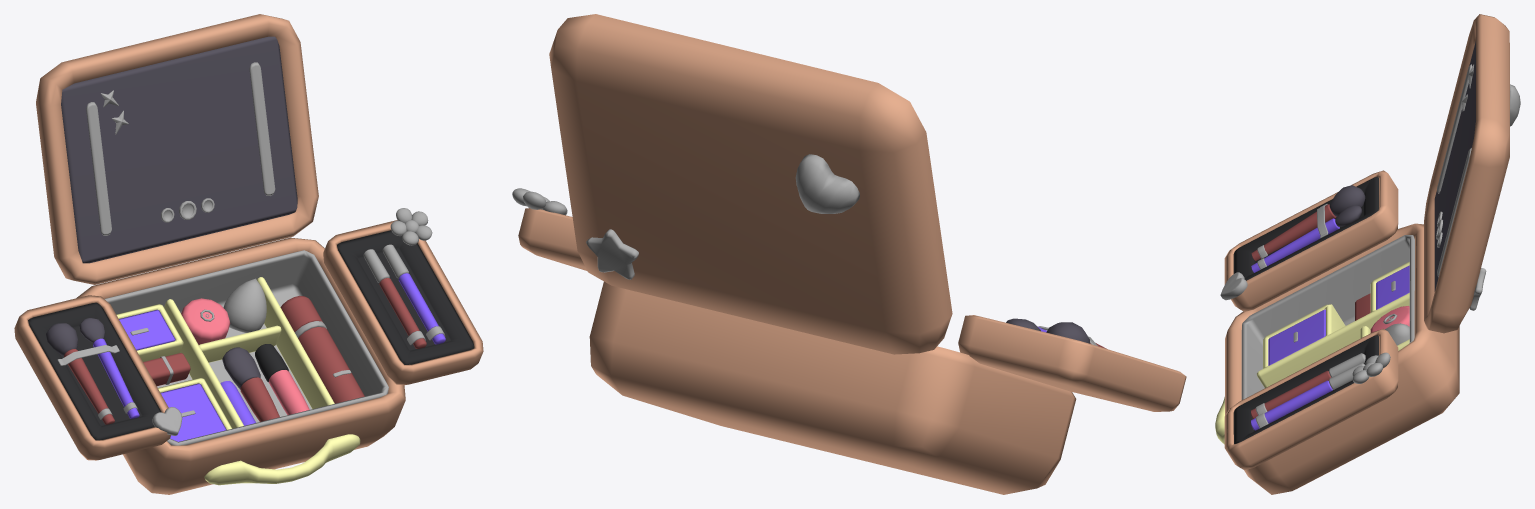
The model's file is MakeupBag02.fbx.
3 views of the same model, side by side, from view 1: azimuth 30°, elevation 25°; view 2: azimuth 150°, elevation 25°; view 3: azimuth 270°, elevation 25° (orthographic). The views are drawn at different scales.
Visible parts, largest first — view 1: S_Makeup, M_Makeup, D_MakeUp17, D_MakeUp18, D_Seahorse_15, D_MotorBike_19; view 2: S_Makeup, D_MotorBike_21, D_BedRoom_48, D_Seahorse_15; view 3: S_Makeup, M_Makeup, D_Seahorse_15, D_MakeUp18, D_MotorBike_19, D_MakeUp17.
Part boxes in pixels (box(x1,y1,x2,y2)): S_Makeup: box(14, 14, 483, 494); M_Makeup: box(28, 36, 474, 441); D_MakeUp17: box(249, 62, 275, 195); D_MakeUp18: box(86, 102, 111, 235); D_Seahorse_15: box(390, 208, 432, 245); D_MotorBike_19: box(152, 407, 182, 435); S_Makeup: box(518, 14, 1186, 494); D_MotorBike_21: box(795, 154, 859, 213); D_BedRoom_48: box(586, 229, 638, 279); D_Seahorse_15: box(512, 188, 567, 215); S_Makeup: box(1215, 14, 1509, 494); M_Makeup: box(1233, 41, 1475, 444); D_Seahorse_15: box(1352, 352, 1390, 383); D_MakeUp18: box(1437, 64, 1472, 193); D_MotorBike_19: box(1220, 272, 1247, 300); D_MakeUp17: box(1437, 148, 1471, 277).
Bounding box in the file's own units: 442 × 369 × 273.
